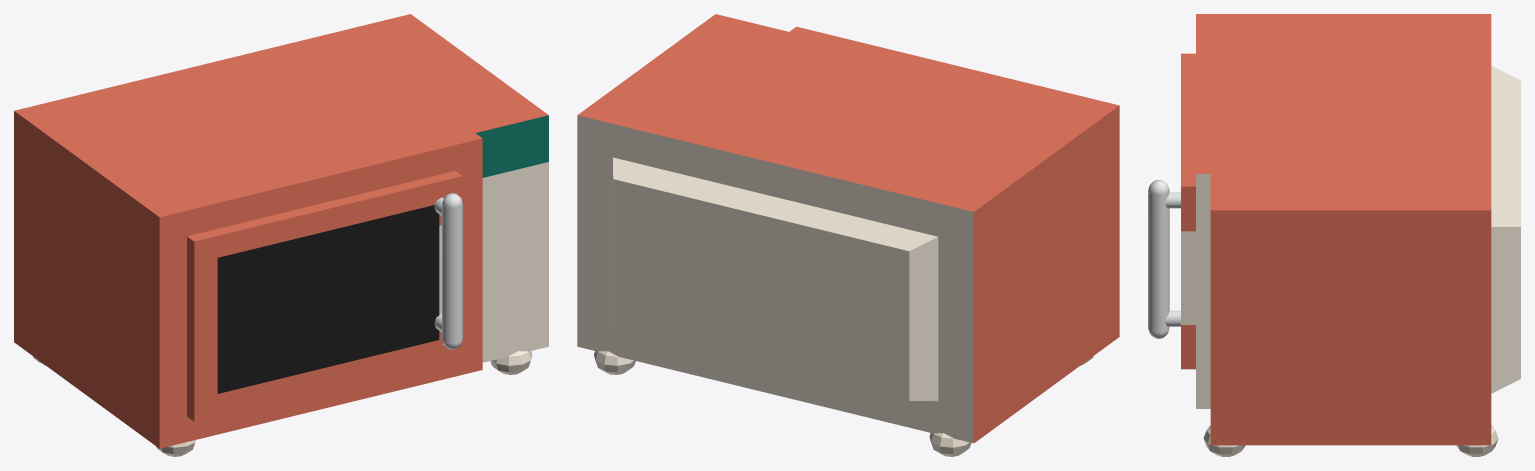
The model's file is microwave_b.glb.
3 views of the same model, side by side, from view 1: azimuth 30°, elevation 25°; view 2: azimuth 150°, elevation 25°; view 3: azimuth 270°, elevation 25° (orthographic).
Visible parts, largest first — view 1: body; view 2: body; view 3: body.
Part boxes in pixels (x1=…): body: x1=14, y1=14, x2=548, y2=456; body: x1=577, y1=14, x2=1119, y2=456; body: x1=1148, y1=14, x2=1520, y2=456.
Bounding box in the file's own units: 0.52 × 0.32 × 0.417.
